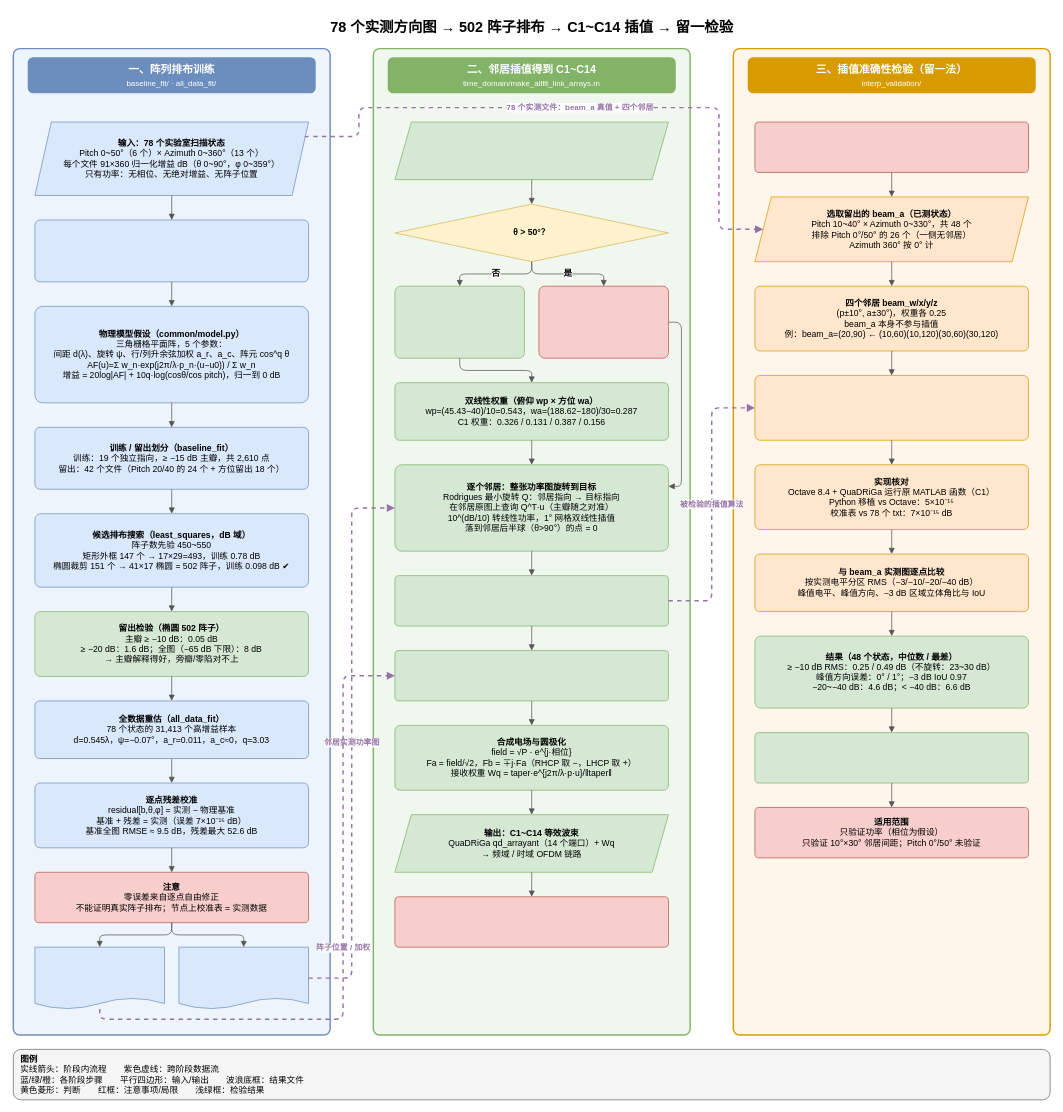
The diagram is 1063 pixels wide and 1112 high, and some of its shapes have lost their labels. Each missing label, with the centre of its shape:
"calibration_tables.mat 基准 dB + 残差 dB（= 实测） + 假设相位" goes at pixel 243 977.
"physical_baseline.mat 502 阵子位置 p_n + 加权 w_n" goes at pixel 99 977.
"为什么要检验 C1~C14 没有实测真值 全数据校准的零误差只在测量节点上" goes at pixel 891 146.
"同网格重建三种结果 ① 旋转 + 线性功率（本方法） ② dB 直接平均（不旋转） ③ 线性功率平均（不旋转）" goes at pixel 891 407.
"否：取所在格子 4 个角点 10°×30° 扫描网格 C1：(40,180) (40,210) (50,180) (50,210)" goes at pixel 459 321.
"数据审计 Azimuth 360° 与 0° 逐格相同 Pitch 0° 各方位指向相同 → 取中值合并 固定坐标：阵面法线 +z" goes at pixel 171 250.
"是：C9（50.37°） 用 50° 边界状态 旋转到 50.37° 外推 0.37°，不钳位" goes at pixel 603 321.
"注意 功率形状只取决于实测邻居 阵子排布只提供相位和阵子级权重" goes at pixel 531 921.
"相位（假设值） 502 阵子阵因子 AF(u) 指向目标的相角 实测没有相位" goes at pixel 531 675.
"线性功率加权求和 P(u) = Σ w_k · P_k(Q_kᵀ u) 物理后半球 z<0 置 0" goes at pixel 531 600.
"结论 主瓣、指向、−3 dB 波束宽度可信；旋转是关键 旁瓣/零陷有 4.5~9 dB 不确定性" goes at pixel 891 757.
"输入：sheet 的 14 个目标指向 θ = Pitch（离轴），φ = Azimuth 例：C1 = (45.43°, 188.62°)" goes at pixel 531 150.
